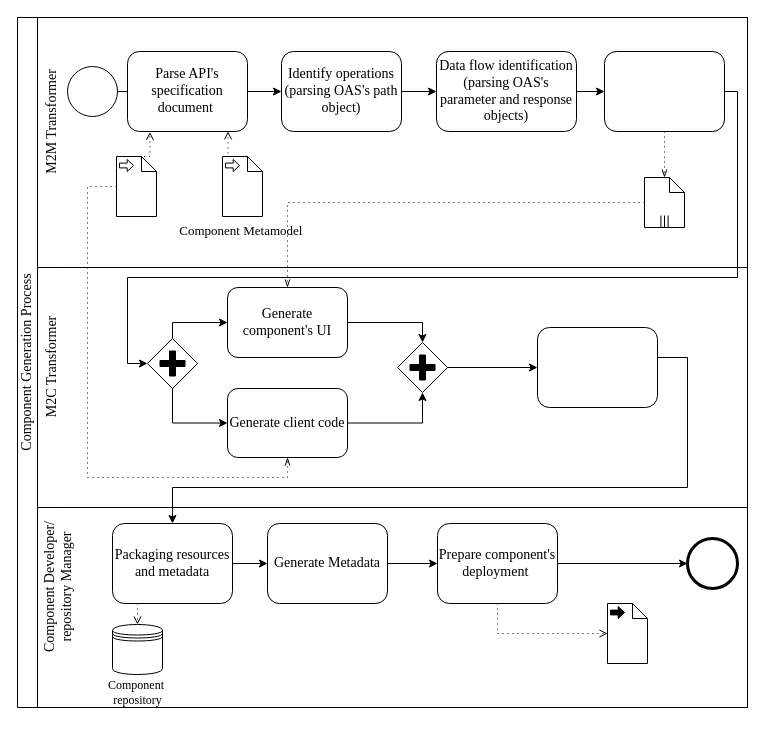
The diagram is 765 pixels wide and 730 high, and some of its shapes have lost their labels. Each missing label, with the centre of its shape:
"API instance" belongs at (664,202).
"Entcapsulate component's logic and UI" belongs at (597,367).
"Generate API instance (ontology)" belongs at (664,91).
"OpenAPI Spec" belongs at (136,186).
"Web Component" belongs at (627,633).
